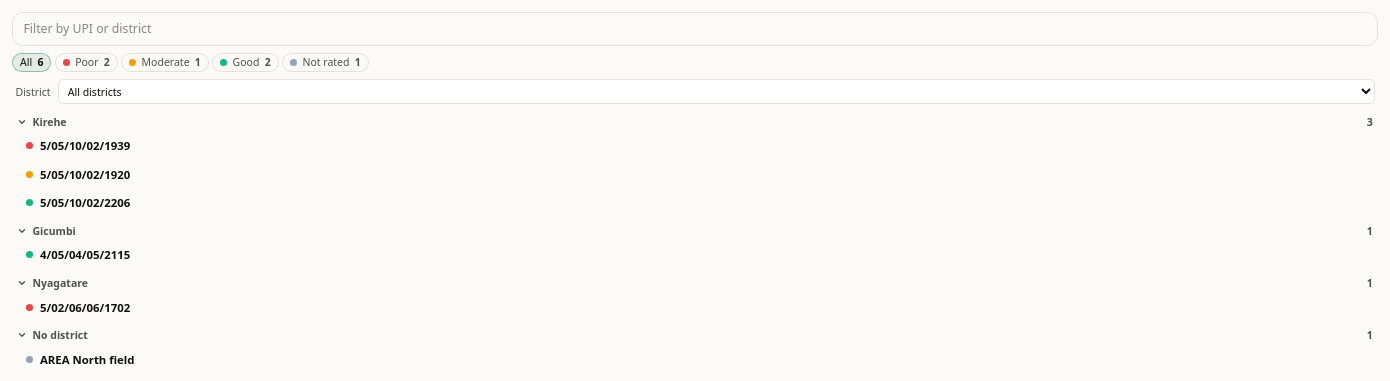
ParcelList › filters by district, and by UPI or district text
The image size is (1390, 381).
Select "Gicumbi" in the dropdown labelled "District": (716, 92) top-left (58, 79), bottom-right (1374, 104)
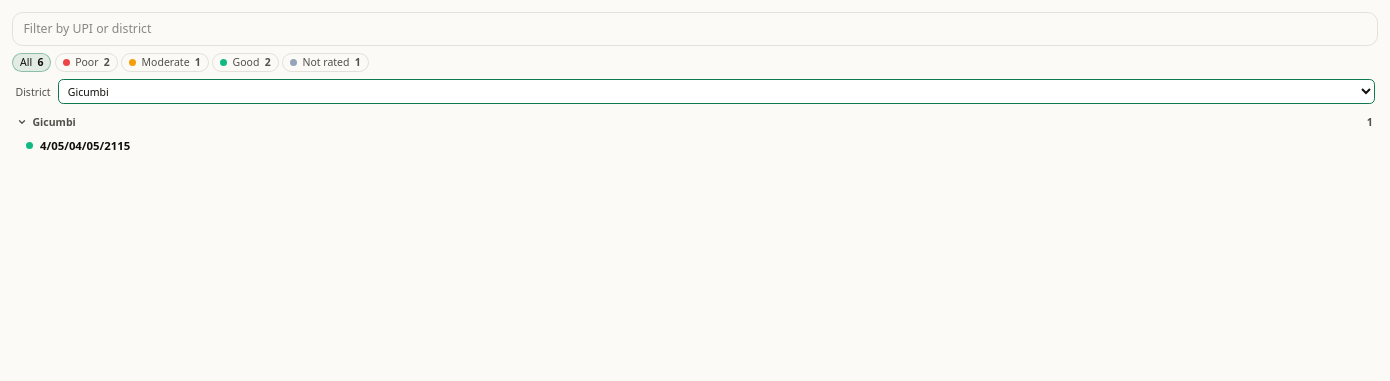
Select "All districts" in the dropdown labelled "District": (716, 92) top-left (58, 79), bottom-right (1374, 104)
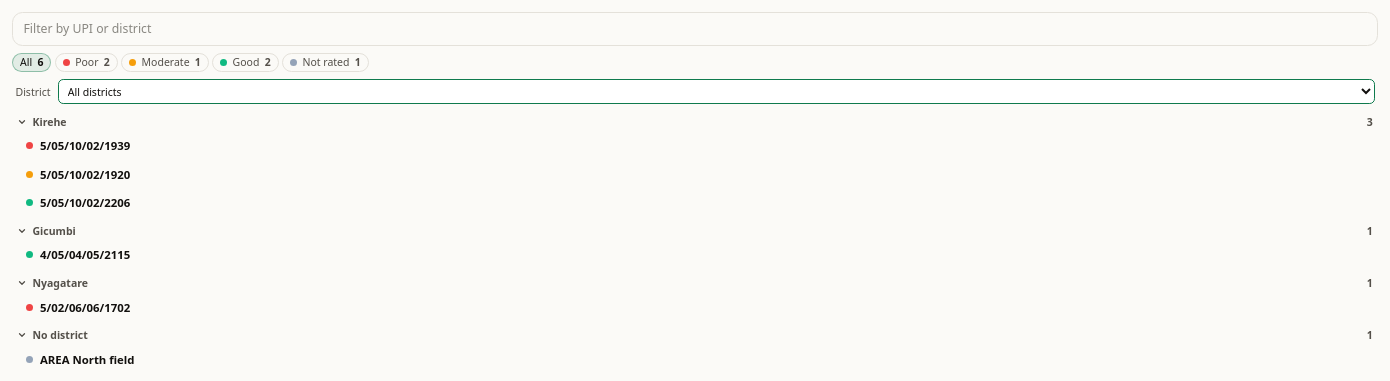
In the search field named "Filter areas": (695, 29) top-left (12, 12), bottom-right (1378, 46), type "nyag"
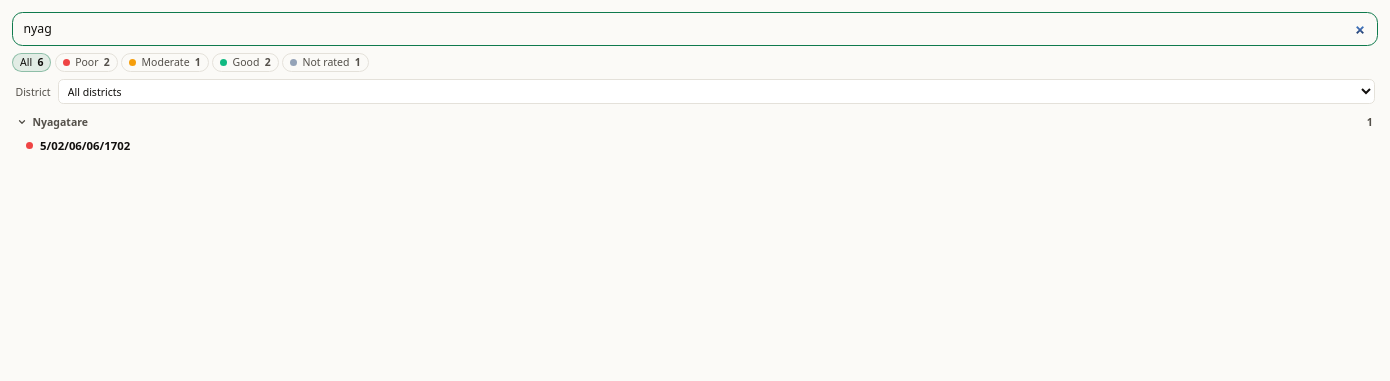
Replace the text in the search field named "Filter areas" with "zzz": (695, 29) top-left (12, 12), bottom-right (1378, 46)
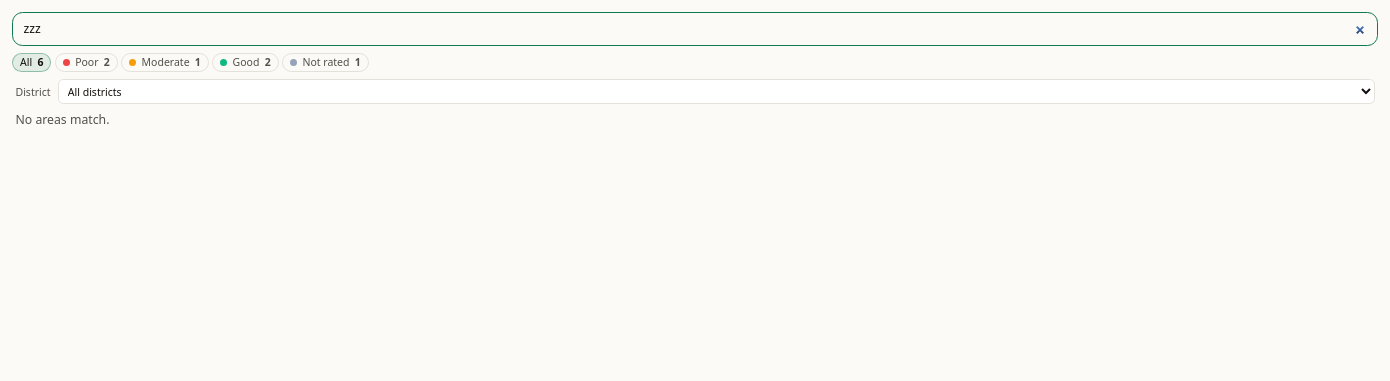
Check: the text "No areas match." is shown, box top-left (16, 111), bottom-right (109, 128)
